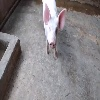heo: (40, 3, 68, 58)
